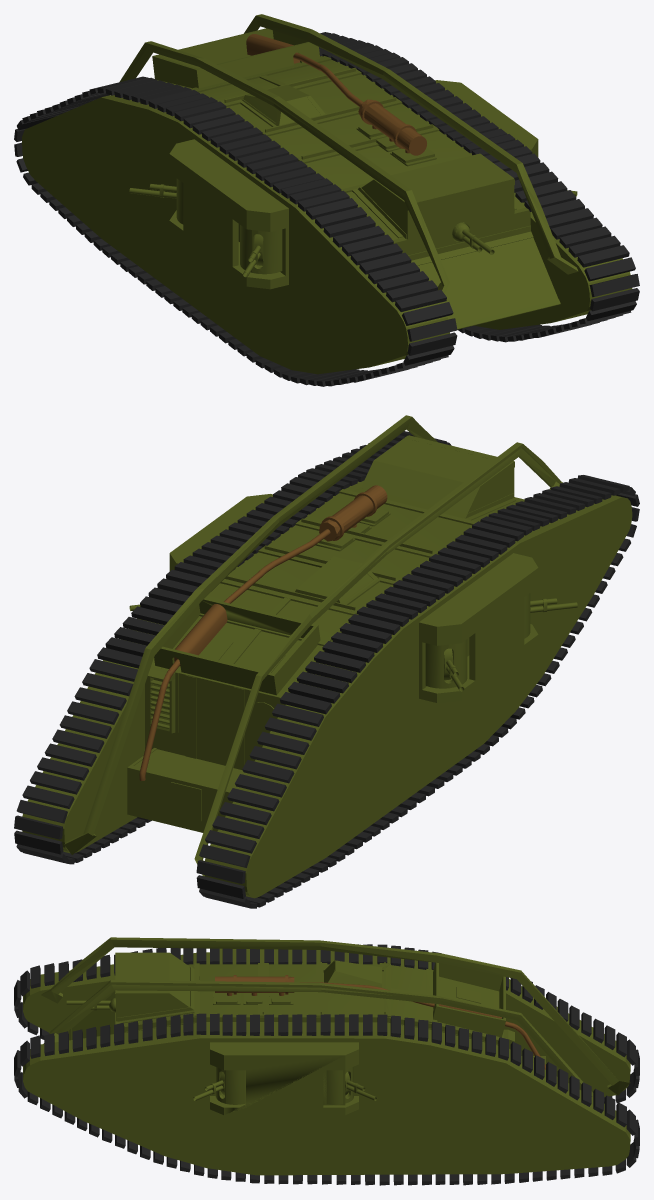
3 views of the same model, one above another, from view 1: azimuth 30°, elevation 25°; view 2: azimuth 150°, elevation 25°; view 3: azimuth 270°, elevation 25° (orthographic). The views are drawn at different scales.
Visible parts, largest first — view 1: Object_4, Object_29, Object_11, Object_23, Object_20, Object_8, Object_7, Object_14, Object_26, Object_17; view 2: Object_29, Object_4, Object_11, Object_20, Object_23, Object_8, Object_14, Object_7, Object_26, Object_17; view 3: Object_14, Object_29, Object_11, Object_20, Object_17, Object_4, Object_23, Object_26.
Part boxes in pixels (<box>): Object_4: <box>22,95,449,374</box>; Object_29: <box>14,32,639,386</box>; Object_11: <box>152,28,558,324</box>; Object_23: <box>341,153,560,329</box>; Object_20: <box>119,14,578,293</box>; Object_8: <box>159,139,288,289</box>; Object_7: <box>129,182,268,286</box>; Object_14: <box>474,192,632,329</box>; Object_26: <box>246,34,426,155</box>; Object_17: <box>435,80,577,196</box>; Object_29: <box>14,431,639,908</box>; Object_4: <box>204,495,632,898</box>; Object_11: <box>127,480,519,832</box>; Object_20: <box>64,415,562,876</box>; Object_23: <box>339,435,524,525</box>; Object_8: <box>419,553,547,702</box>; Object_14: <box>22,481,358,853</box>; Object_7: <box>422,568,577,699</box>; Object_26: <box>139,485,387,780</box>; Object_17: <box>129,494,272,610</box>; Object_14: <box>23,1022,630,1175</box>; Object_29: <box>14,944,639,1185</box>; Object_11: <box>72,960,545,1064</box>; Object_20: <box>41,937,630,1096</box>; Object_17: <box>193,1042,377,1115</box>; Object_4: <box>23,952,630,1096</box>; Object_23: <box>66,952,199,1040</box>; Object_26: <box>215,975,545,1069</box>.
Size of the model in its own units: 1624 by 1071 by 3341.
